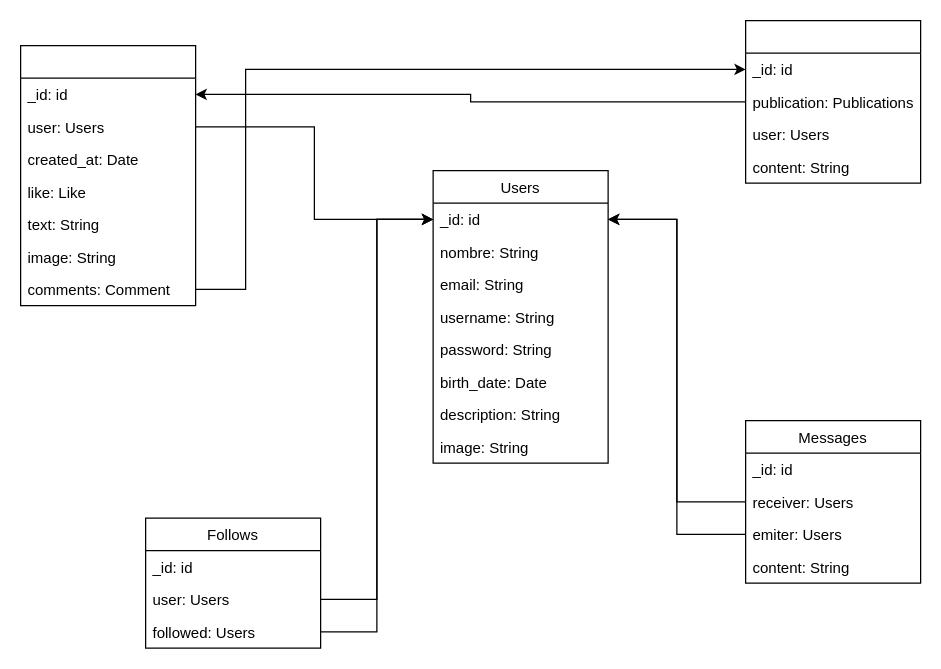
This 941x669 diagram has some shape labels left out. Each missing label, with the box of its shape:
Comments: (744, 19, 921, 183)
Publications: (19, 44, 196, 306)
